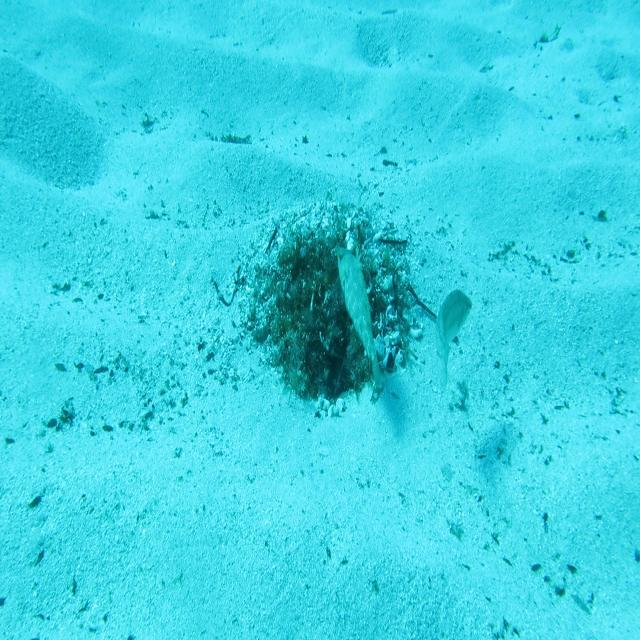ROLL: (329, 239, 386, 395)
core_nest: (311, 237, 363, 287)
female: (433, 288, 474, 391)
nest: (223, 189, 437, 431)
